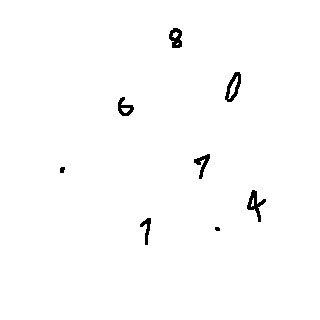.: (207, 218, 229, 243), (55, 162, 76, 181)
0: (216, 63, 250, 120)
1: (132, 213, 162, 259)
4: (240, 186, 273, 231)
6: (107, 93, 141, 126)
7: (187, 149, 219, 191)
8: (157, 22, 190, 64)
